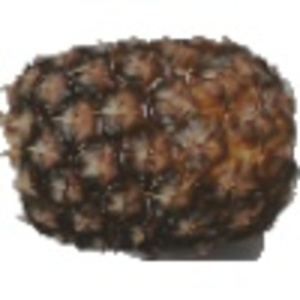abacaxi: (3, 27, 292, 257)
